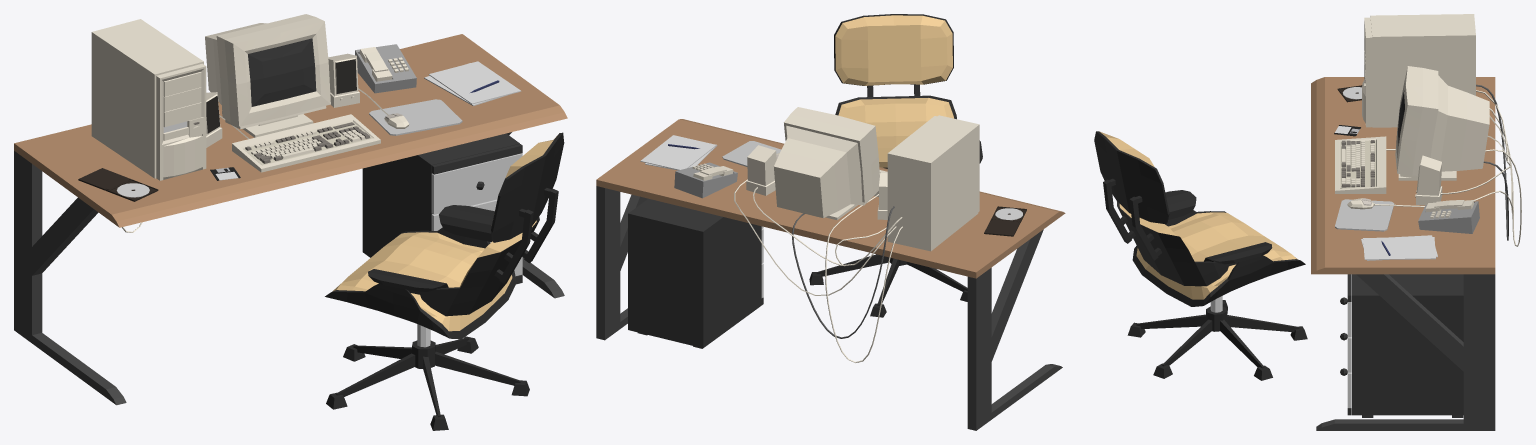
The model's file is compressed-computer-optimized.glb.
The picture shows the model from 3 angles, left to right: view 1: azimuth 30°, elevation 25°; view 2: azimuth 150°, elevation 25°; view 3: azimuth 270°, elevation 25°; orthographic projection. The views are drawn at different scales.
Visible parts, largest first — view 1: Cube.000_ComputerDesk_0.001; view 2: Cube.000_ComputerDesk_0.001; view 3: Cube.000_ComputerDesk_0.001.
Boxes of the visible parts, x1,y1,x2,y2 form: Cube.000_ComputerDesk_0.001: (14,14,567,430); Cube.000_ComputerDesk_0.001: (596,14,1065,430); Cube.000_ComputerDesk_0.001: (1094,14,1521,430).
Size of the model in its own units: 188 by 116 by 178.
2 materials, 2 textured.
